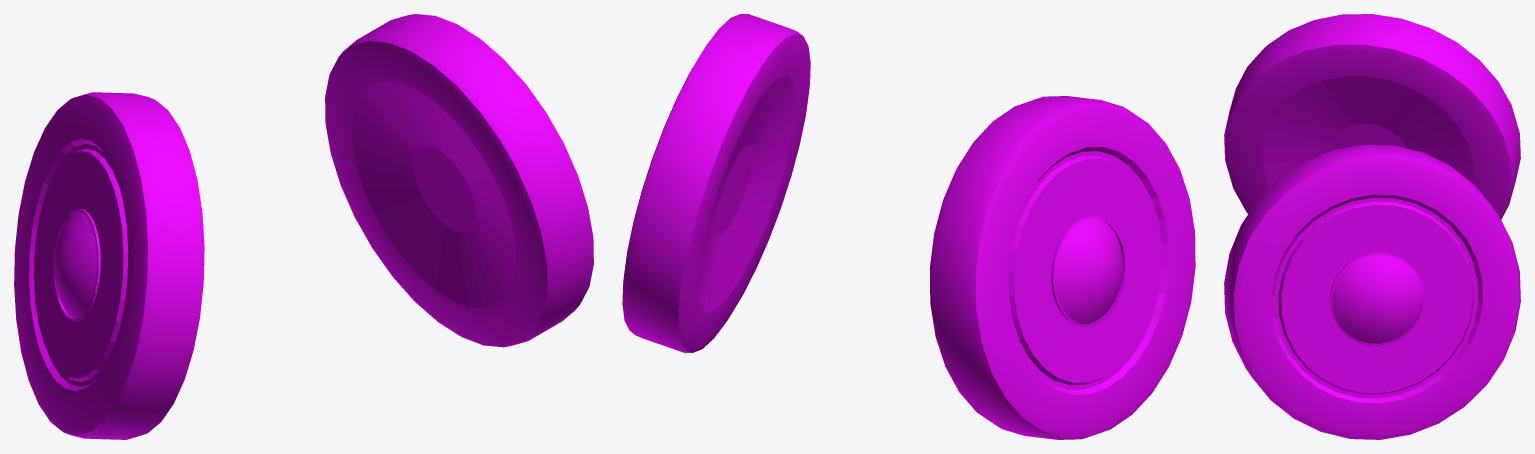
Rendered from Wheels.FBX.
3 renders of one model, left to right at view 1: azimuth 30°, elevation 25°; view 2: azimuth 150°, elevation 25°; view 3: azimuth 270°, elevation 25°, orthographic. The views are drawn at different scales.
Visible parts, largest first — view 1: Cylinder079, Cylinder080; view 2: Cylinder080, Cylinder079; view 3: Cylinder079, Cylinder080.
Part boxes in pixels (x1,y1,x2,y2): Cylinder079: [325, 14, 593, 347]; Cylinder080: [14, 92, 204, 439]; Cylinder080: [930, 96, 1195, 439]; Cylinder079: [622, 14, 810, 352]; Cylinder079: [1224, 144, 1520, 439]; Cylinder080: [1224, 14, 1520, 219].
Size of the model in its own units: 88.31 by 55.95 by 55.89.
